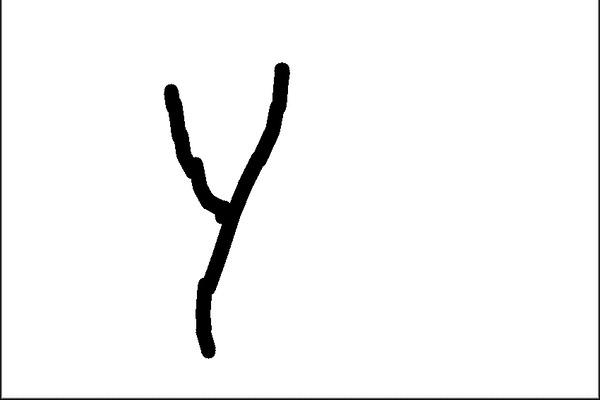Y: (149, 58, 300, 368)
